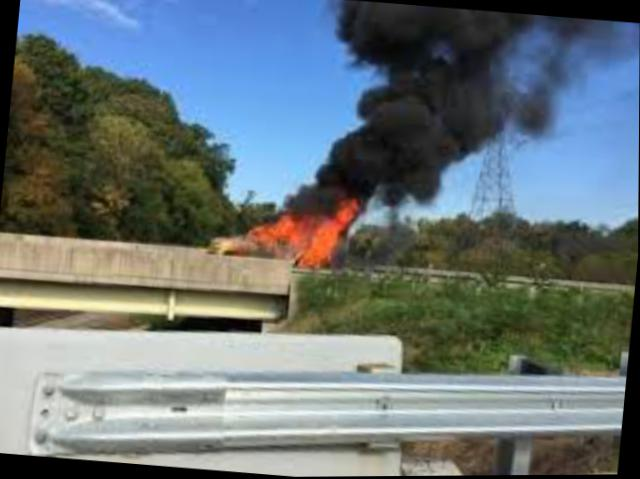fire: (223, 182, 369, 274)
